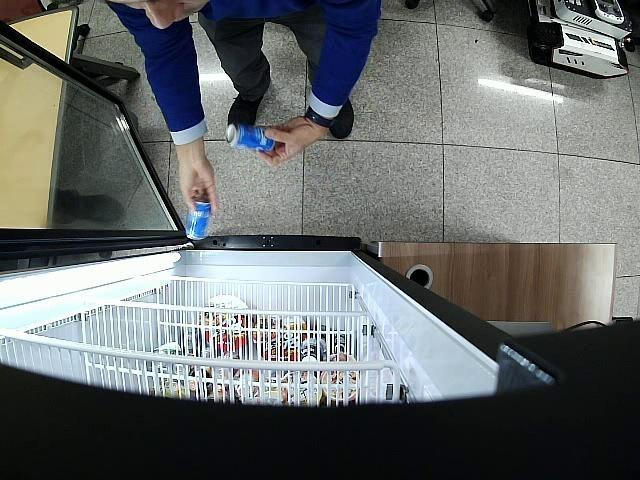15_letsbe: (226, 122, 276, 152), (187, 202, 210, 240)
